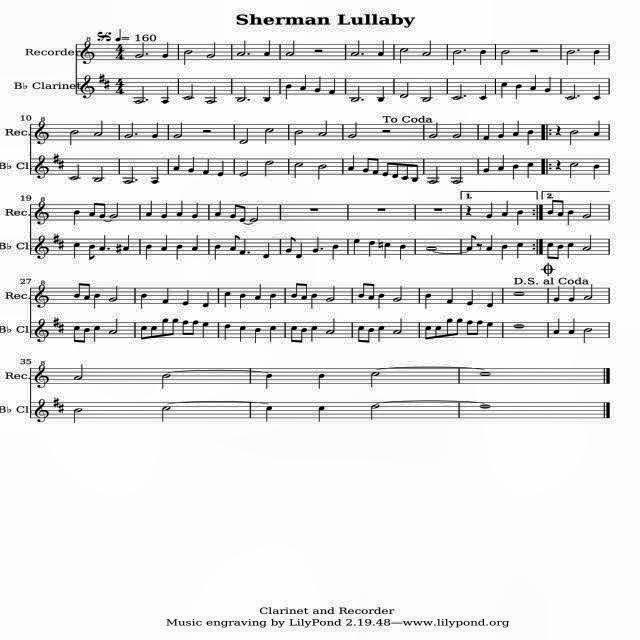Bass-clef: (76, 38, 98, 66), (32, 360, 49, 388), (34, 316, 50, 344), (34, 120, 50, 146), (34, 234, 50, 260), (34, 156, 50, 180), (34, 201, 50, 225), (34, 284, 50, 308), (80, 73, 94, 99)
Diez: (52, 152, 60, 164), (57, 238, 65, 250), (98, 72, 105, 84), (105, 78, 112, 90), (52, 316, 59, 328), (114, 243, 122, 253), (59, 323, 66, 333), (59, 159, 65, 169), (53, 233, 59, 243)
Eighth-note: (442, 318, 453, 338), (464, 234, 476, 252), (400, 162, 410, 182), (556, 198, 566, 218), (288, 325, 298, 345), (355, 324, 365, 344), (284, 237, 296, 253), (409, 162, 418, 182), (137, 325, 147, 343), (361, 158, 372, 174), (230, 233, 240, 250), (82, 283, 91, 301), (380, 160, 390, 176), (367, 280, 375, 300), (160, 318, 168, 338), (170, 317, 178, 337), (190, 320, 200, 336), (454, 318, 462, 337), (239, 204, 247, 222), (546, 198, 554, 216), (546, 242, 554, 260), (300, 282, 308, 300), (182, 319, 190, 337), (87, 202, 97, 216), (81, 328, 91, 342), (298, 329, 308, 343), (424, 324, 432, 341), (372, 158, 380, 174), (390, 162, 398, 178), (98, 202, 106, 218), (228, 203, 236, 219), (72, 282, 80, 298), (358, 282, 366, 298), (72, 326, 80, 342), (367, 326, 375, 342), (465, 320, 473, 336), (475, 320, 483, 336), (88, 244, 95, 260), (556, 244, 564, 258), (292, 282, 298, 298), (150, 326, 158, 338), (434, 324, 442, 336)
Eighth-rest: (476, 242, 484, 250)
Full-note: (510, 322, 528, 330), (513, 291, 527, 297), (426, 246, 438, 252), (476, 372, 492, 376), (480, 404, 492, 408)
Half-note: (89, 164, 107, 183), (448, 120, 464, 140), (68, 162, 84, 182), (366, 370, 382, 390), (131, 84, 145, 105), (203, 84, 217, 104), (316, 163, 332, 180), (366, 404, 382, 421), (346, 86, 362, 102), (66, 130, 82, 146), (90, 120, 106, 136), (171, 121, 185, 139), (72, 364, 86, 382), (158, 372, 172, 390), (398, 48, 410, 68), (264, 158, 276, 178), (72, 406, 84, 426), (159, 404, 173, 421), (122, 164, 134, 183), (132, 42, 146, 58), (203, 42, 217, 58), (316, 122, 330, 138), (323, 286, 337, 302), (284, 39, 296, 57), (500, 49, 512, 67), (452, 83, 464, 101), (238, 127, 250, 145), (568, 128, 580, 146), (239, 161, 251, 179), (292, 161, 304, 179), (426, 166, 438, 184), (450, 166, 462, 184), (582, 202, 594, 220), (451, 48, 464, 64), (182, 84, 195, 100), (248, 205, 260, 222), (264, 126, 274, 146), (234, 40, 246, 56), (348, 40, 360, 56), (422, 40, 434, 56), (236, 86, 248, 102), (398, 83, 410, 99), (420, 86, 432, 102), (564, 84, 576, 100), (294, 130, 306, 146), (568, 162, 580, 178), (580, 236, 592, 252), (106, 286, 118, 302), (390, 286, 402, 302), (108, 318, 120, 334), (324, 320, 336, 336), (391, 320, 404, 334), (347, 122, 358, 138), (182, 50, 194, 64), (566, 48, 576, 64), (124, 122, 134, 138), (583, 328, 593, 344), (429, 122, 438, 138), (110, 202, 118, 218), (584, 284, 592, 300)
Quarter-note: (588, 118, 604, 138), (158, 86, 174, 105), (588, 83, 604, 101), (493, 120, 507, 140), (474, 50, 490, 66), (260, 86, 274, 104), (263, 404, 277, 422), (316, 404, 330, 422), (148, 166, 160, 186), (498, 82, 510, 101), (200, 157, 212, 176), (374, 40, 388, 56), (216, 158, 227, 178), (592, 48, 604, 66), (374, 85, 386, 103), (524, 127, 536, 145), (212, 199, 224, 217), (511, 119, 522, 138), (528, 75, 540, 92), (510, 163, 522, 180), (188, 233, 200, 250), (483, 235, 495, 252), (172, 152, 182, 172), (593, 162, 603, 182), (330, 244, 340, 264), (367, 238, 377, 258), (481, 122, 492, 140), (160, 42, 172, 58), (260, 40, 272, 56), (148, 123, 160, 139), (494, 156, 506, 172), (158, 202, 170, 218), (462, 290, 474, 306), (550, 320, 562, 336), (264, 372, 276, 388), (316, 372, 328, 388), (480, 82, 490, 101), (187, 154, 197, 173), (327, 77, 337, 95), (347, 153, 357, 171), (212, 243, 222, 261), (398, 242, 408, 260), (161, 287, 171, 305), (201, 290, 211, 308), (252, 326, 262, 344), (267, 323, 277, 341), (377, 292, 388, 308), (310, 323, 318, 345), (483, 204, 495, 218), (312, 236, 321, 254), (526, 160, 534, 180), (175, 200, 185, 216), (189, 202, 199, 218), (70, 242, 80, 258), (181, 290, 191, 306), (445, 288, 455, 304), (486, 292, 496, 308), (552, 286, 562, 302), (237, 324, 247, 340), (376, 326, 386, 342), (352, 238, 361, 255), (514, 83, 522, 101), (544, 75, 552, 93), (482, 156, 490, 174), (122, 234, 130, 252), (240, 238, 248, 256), (384, 241, 392, 259), (499, 244, 508, 260), (568, 285, 576, 303), (486, 321, 494, 339), (314, 77, 324, 91), (145, 202, 155, 216), (261, 244, 271, 258), (72, 210, 80, 227), (566, 210, 574, 227), (284, 84, 292, 100), (300, 74, 308, 90), (500, 201, 508, 217), (516, 210, 524, 226), (98, 236, 106, 252), (144, 244, 152, 260), (160, 236, 168, 252), (174, 244, 182, 260), (296, 242, 304, 258), (516, 242, 524, 258), (566, 242, 574, 258), (93, 293, 101, 309), (138, 293, 146, 309), (224, 290, 232, 306), (238, 293, 246, 309), (254, 284, 262, 300), (269, 292, 277, 308), (310, 292, 318, 308), (424, 293, 432, 309), (92, 326, 100, 342), (224, 322, 232, 338), (202, 322, 210, 336), (568, 320, 576, 334)
Quarter-rest: (553, 124, 563, 138), (553, 158, 563, 172), (465, 206, 473, 217)
